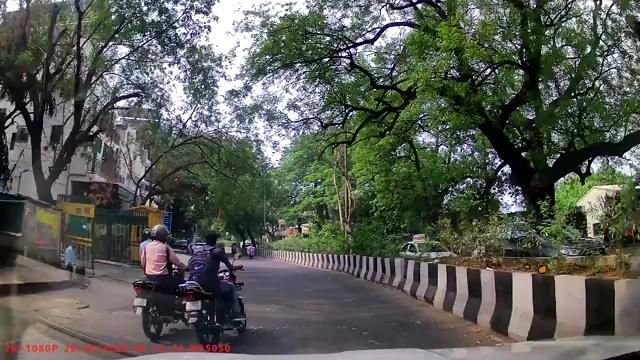motorcycle_with_helmet: (133, 222, 186, 341)
motorcycle_without_helmet: (185, 229, 247, 343)
